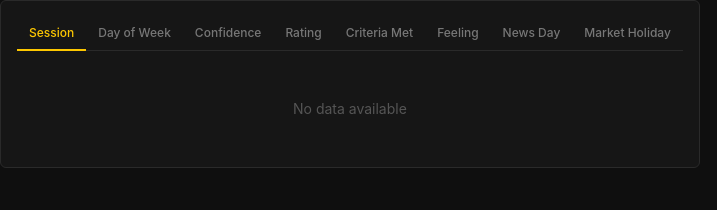
Test case: UnifiedBreakdowns — News Day / Market Holiday tabs › shows the backtest framing + coverage date on the News Day tab in backtest mode
Click the button "News Day". click: {"x": 531, "y": 34}
box: [491, 17, 572, 51]
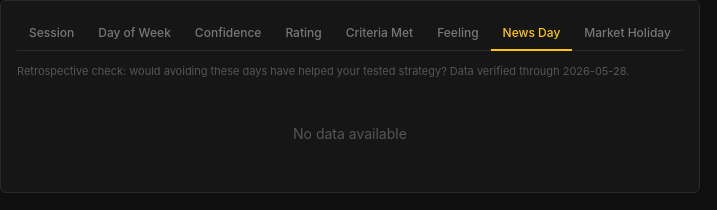
Check: the text "Data verified through 2026-05-28" is shown, box [17, 64, 630, 78]
